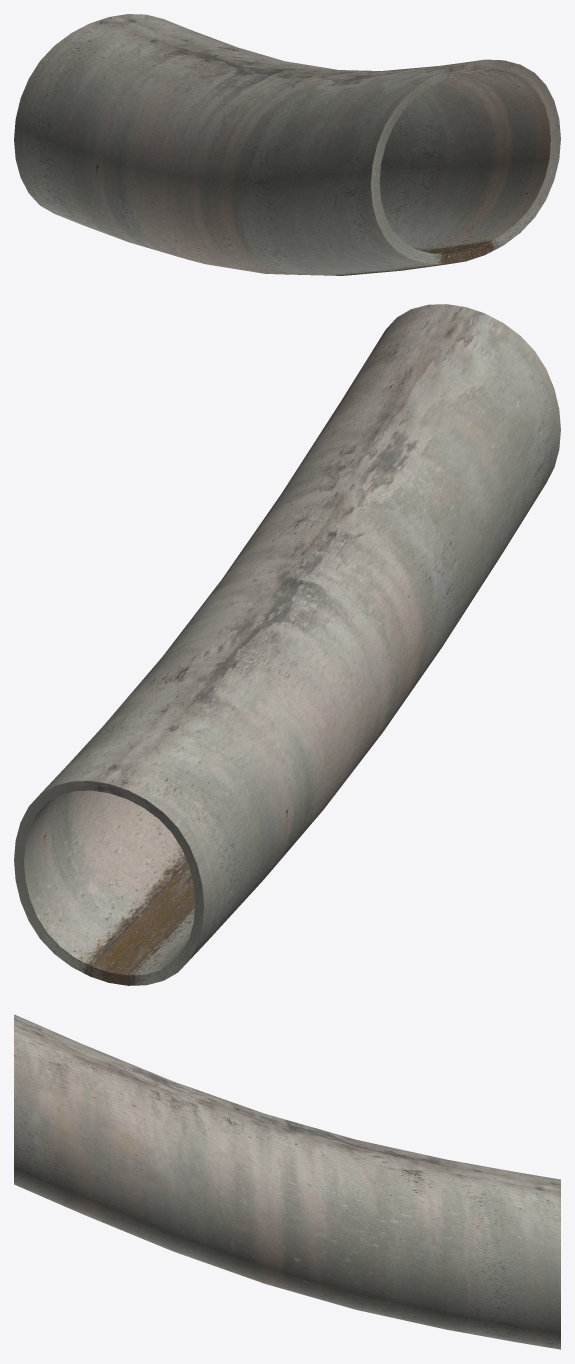
3 views of the same model, one above another, from view 1: azimuth 30°, elevation 25°; view 2: azimuth 150°, elevation 25°; view 3: azimuth 270°, elevation 25° (orthographic). The views are drawn at different scales.
Visible parts, largest first — view 1: Tube_1_Up; view 2: Tube_1_Up; view 3: Tube_1_Up.
Part boxes in pixels (bbox=[...]): Tube_1_Up: bbox=[14, 14, 560, 275]; Tube_1_Up: bbox=[14, 304, 560, 985]; Tube_1_Up: bbox=[14, 1014, 560, 1349].
Bounding box in the file's own units: 369 × 769 × 1200.
